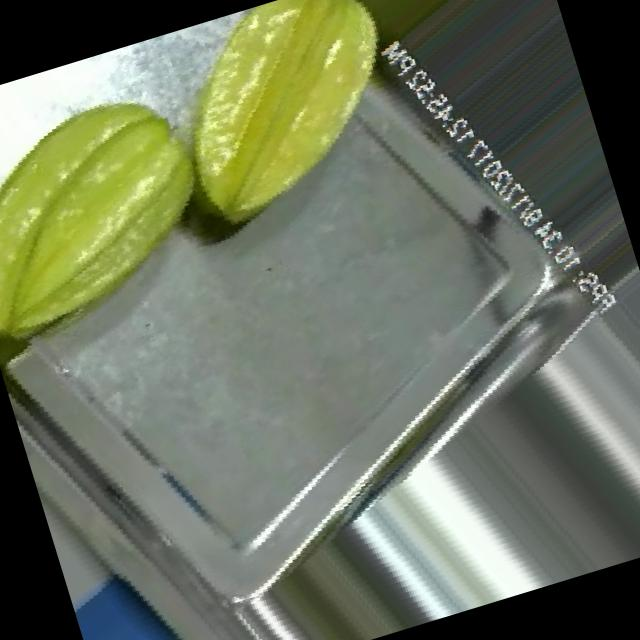fruit: (120, 0, 468, 278), (0, 48, 268, 383)
